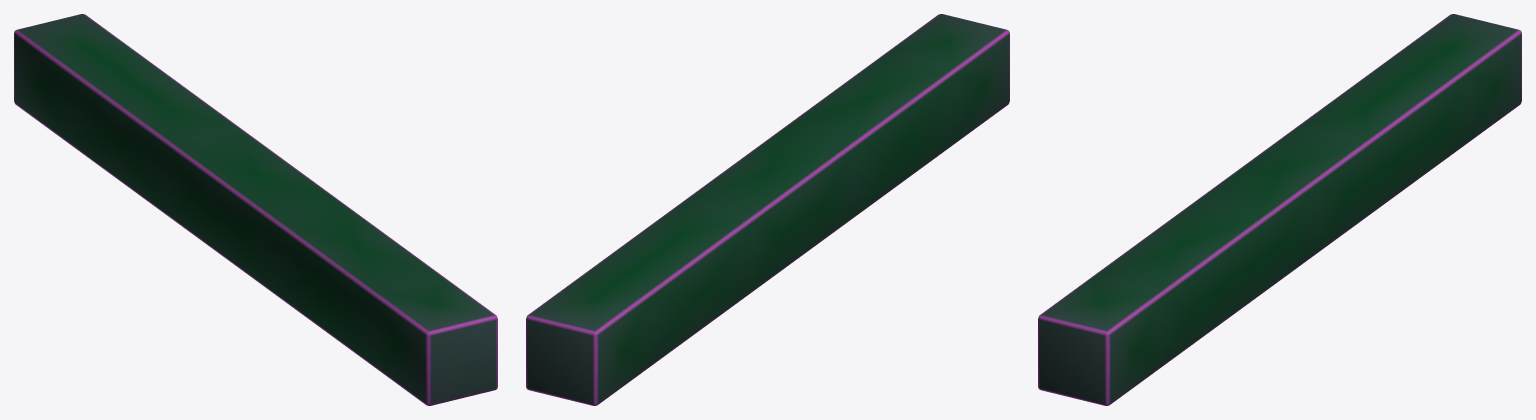
The model's file is straight_pillar_01.fbx.
3 renders of one model, left to right at view 1: azimuth 30°, elevation 25°; view 2: azimuth 150°, elevation 25°; view 3: azimuth 330°, elevation 25°, orthographic.
Visible parts, largest first — view 1: straight_pillar_01; view 2: straight_pillar_01; view 3: straight_pillar_01.
Boxes of the visible parts, box(x1,y1,x2,y2) form: straight_pillar_01: box(14, 14, 497, 405); straight_pillar_01: box(526, 14, 1009, 405); straight_pillar_01: box(1038, 14, 1521, 405).
Size of the model in its own units: 0.1 by 0.1 by 1.
